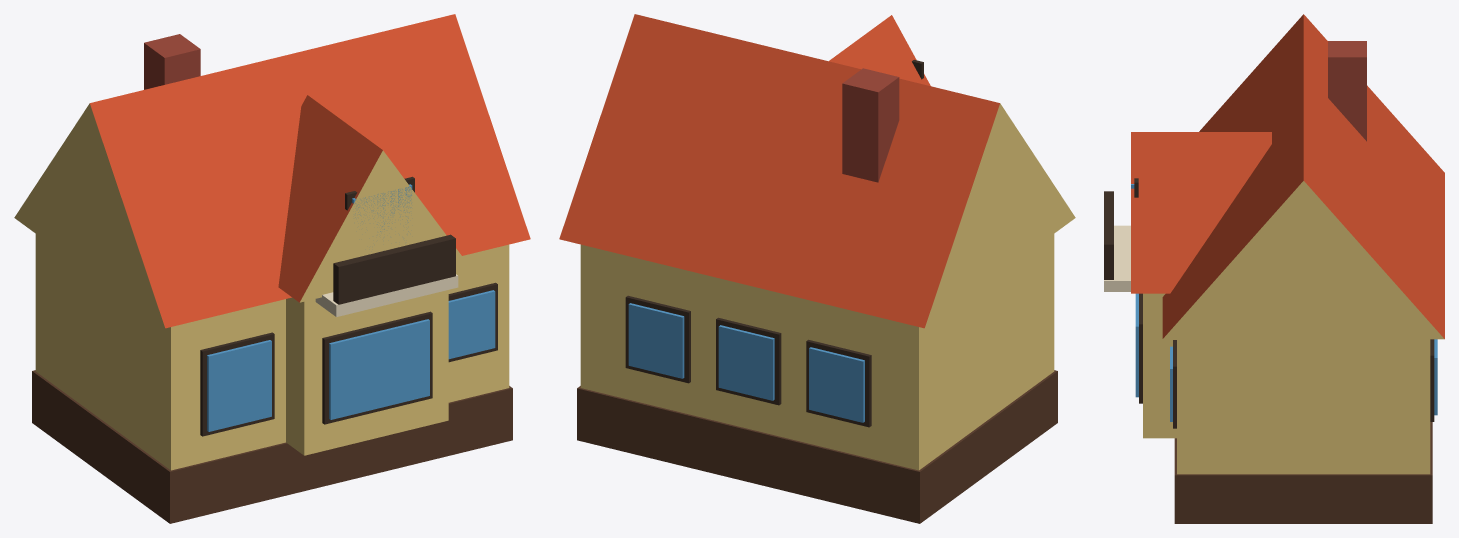
The model's file is 64_polish_balcony_1.obj.
3 renders of one model, left to right at view 1: azimuth 30°, elevation 25°; view 2: azimuth 150°, elevation 25°; view 3: azimuth 270°, elevation 25°, orthographic. The views are drawn at different scales.
Visible parts, largest first — view 1: 64_polish_balcony_1; view 2: 64_polish_balcony_1; view 3: 64_polish_balcony_1.
Part boxes in pixels (x1=…): 64_polish_balcony_1: x1=14, y1=14, x2=530, y2=523; 64_polish_balcony_1: x1=559, y1=14, x2=1075, y2=523; 64_polish_balcony_1: x1=1104, y1=14, x2=1444, y2=523.
Size of the model in its own units: 1.62 by 1.64 by 1.4.
